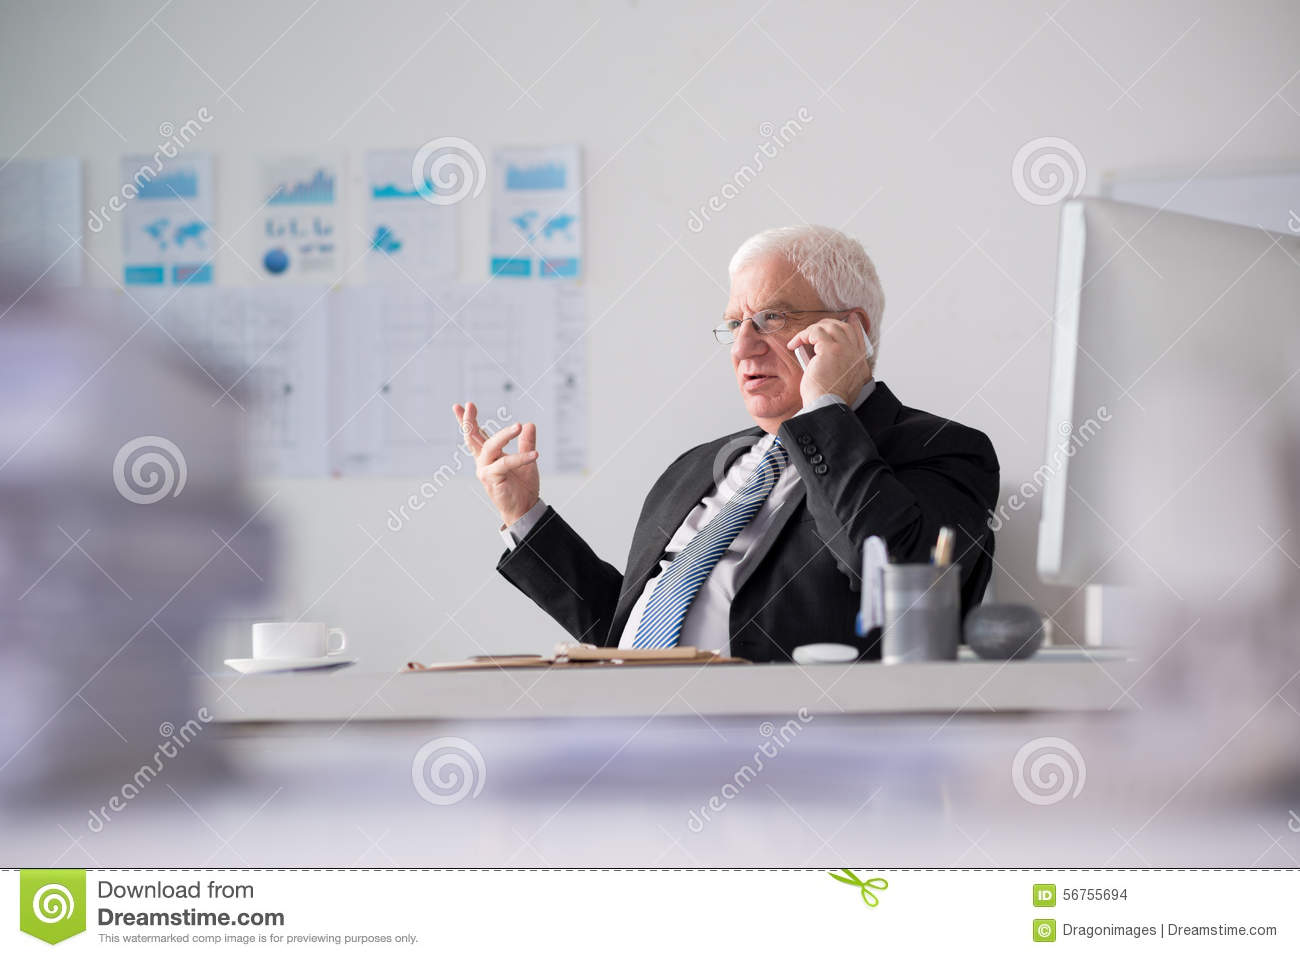phone: (789, 315, 876, 381)
talk: (721, 296, 879, 424)
